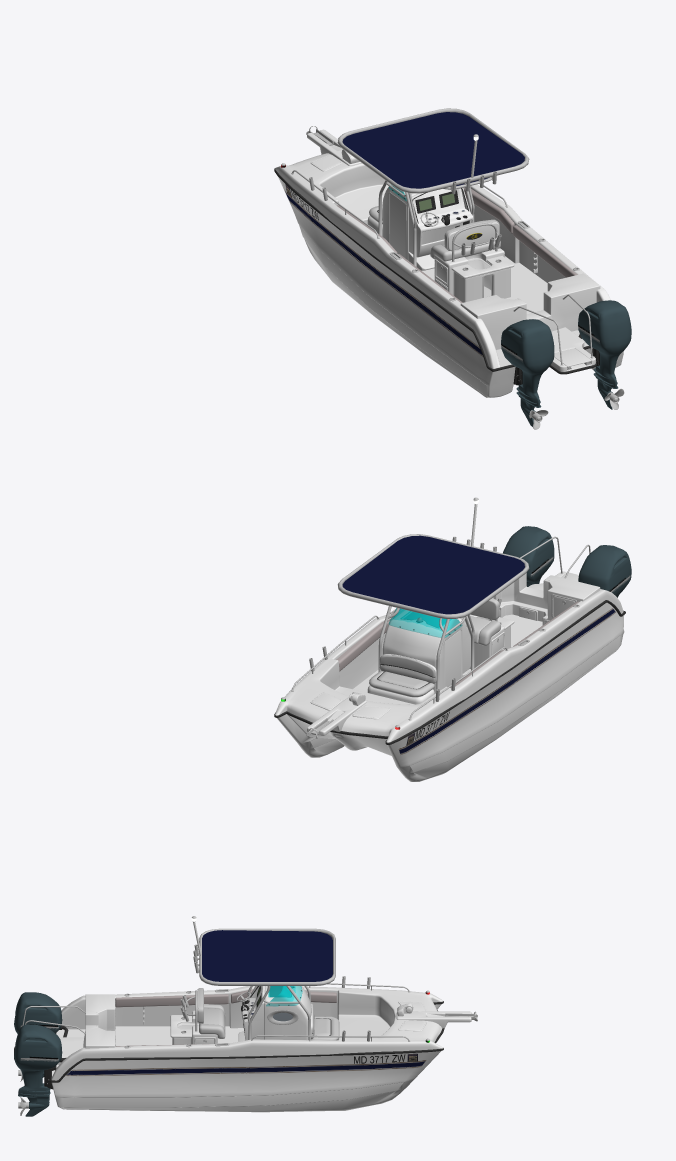
File: glacier.glb
3 renders of one model, top to bottom at view 1: azimuth 30°, elevation 25°; view 2: azimuth 150°, elevation 25°; view 3: azimuth 270°, elevation 25°, orthographic. The views are drawn at different scales.
Visible parts, largest first — view 1: Hull, OutboardPivot, OutboardPivot2; view 2: Hull, OutboardPivot, OutboardPivot2; view 3: Hull, OutboardPivot2, OutboardPivot.
Boxes of the visible parts, x1,y1,x2,y2 form: Hull: (274, 108, 623, 397); OutboardPivot: (501, 319, 554, 426); OutboardPivot2: (578, 300, 631, 409); Hull: (274, 497, 625, 781); OutboardPivot: (578, 545, 631, 597); OutboardPivot2: (503, 526, 554, 586); Hull: (14, 916, 477, 1112); OutboardPivot2: (14, 1024, 62, 1116); OutboardPivot: (14, 992, 62, 1077).
Size of the model in its own units: 9.83 by 4.05 by 11.06.
5 materials, 5 textured.
